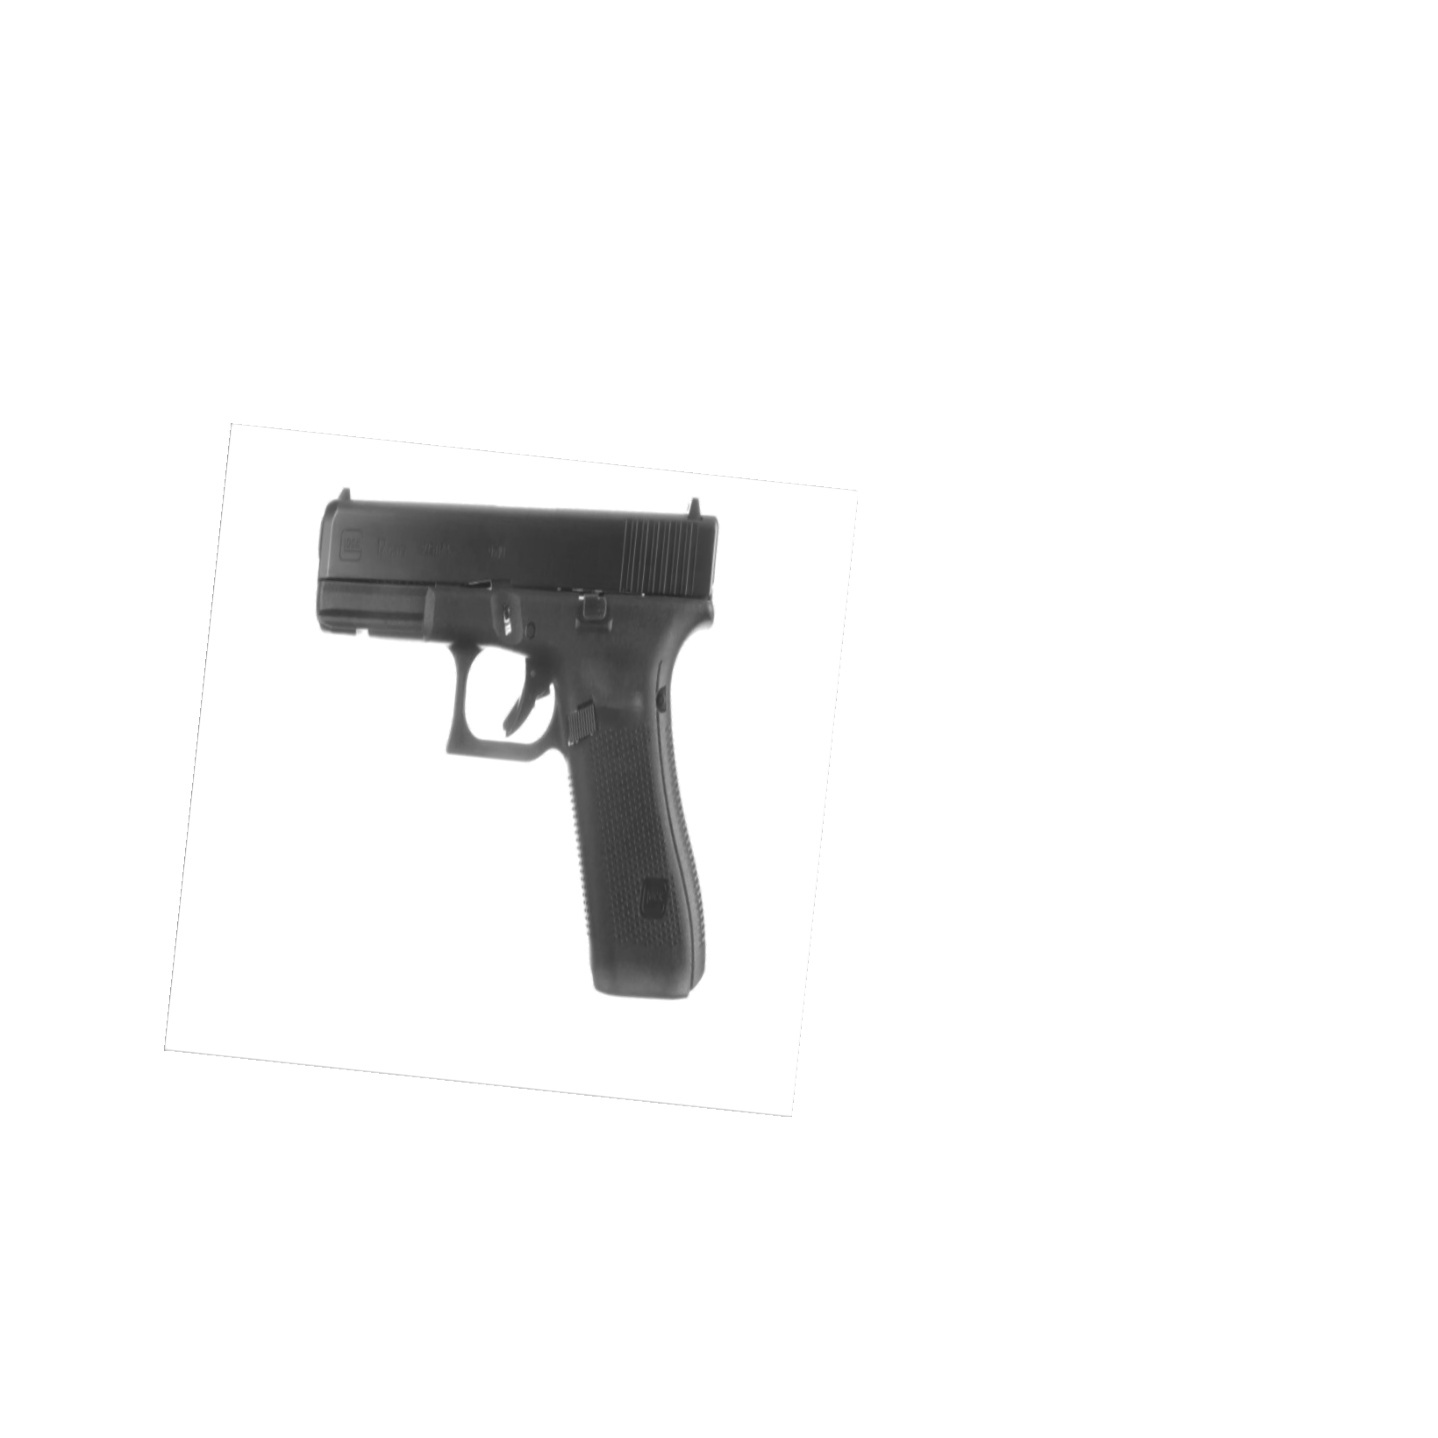gun: (308, 479, 743, 1013)
